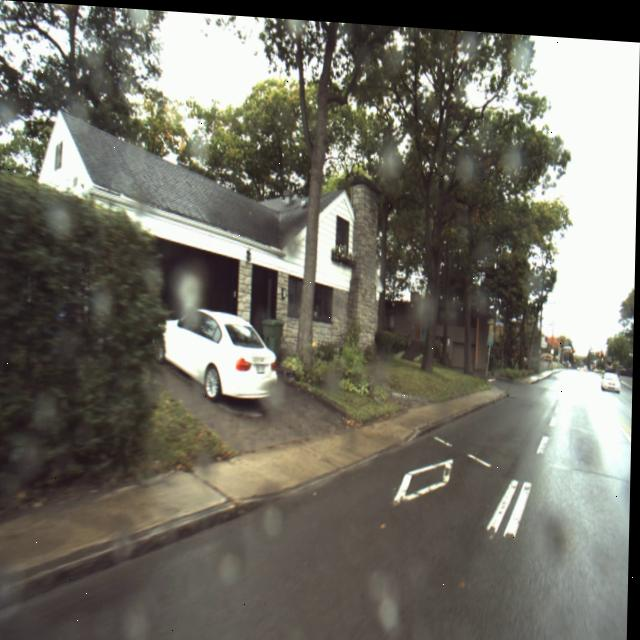car: (165, 306, 285, 394), (602, 361, 624, 386)
